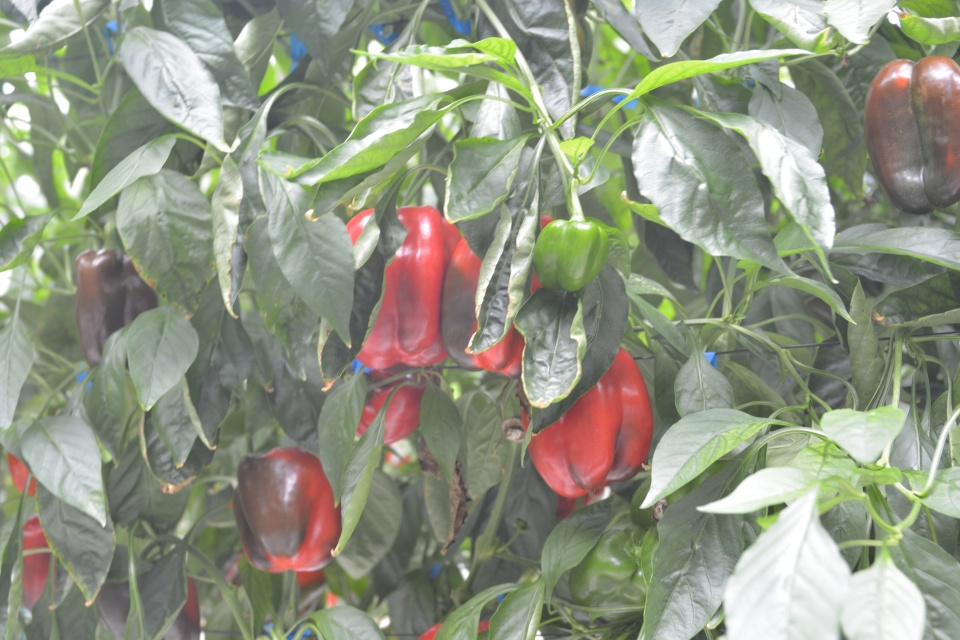fruit: (518, 349, 656, 501), (342, 202, 464, 373), (438, 211, 553, 381), (861, 52, 960, 213), (230, 442, 344, 572), (74, 246, 159, 368), (566, 522, 648, 621), (97, 572, 201, 640), (354, 368, 435, 445), (532, 218, 609, 293), (20, 515, 56, 612)
pedicle: (624, 532, 643, 564)
